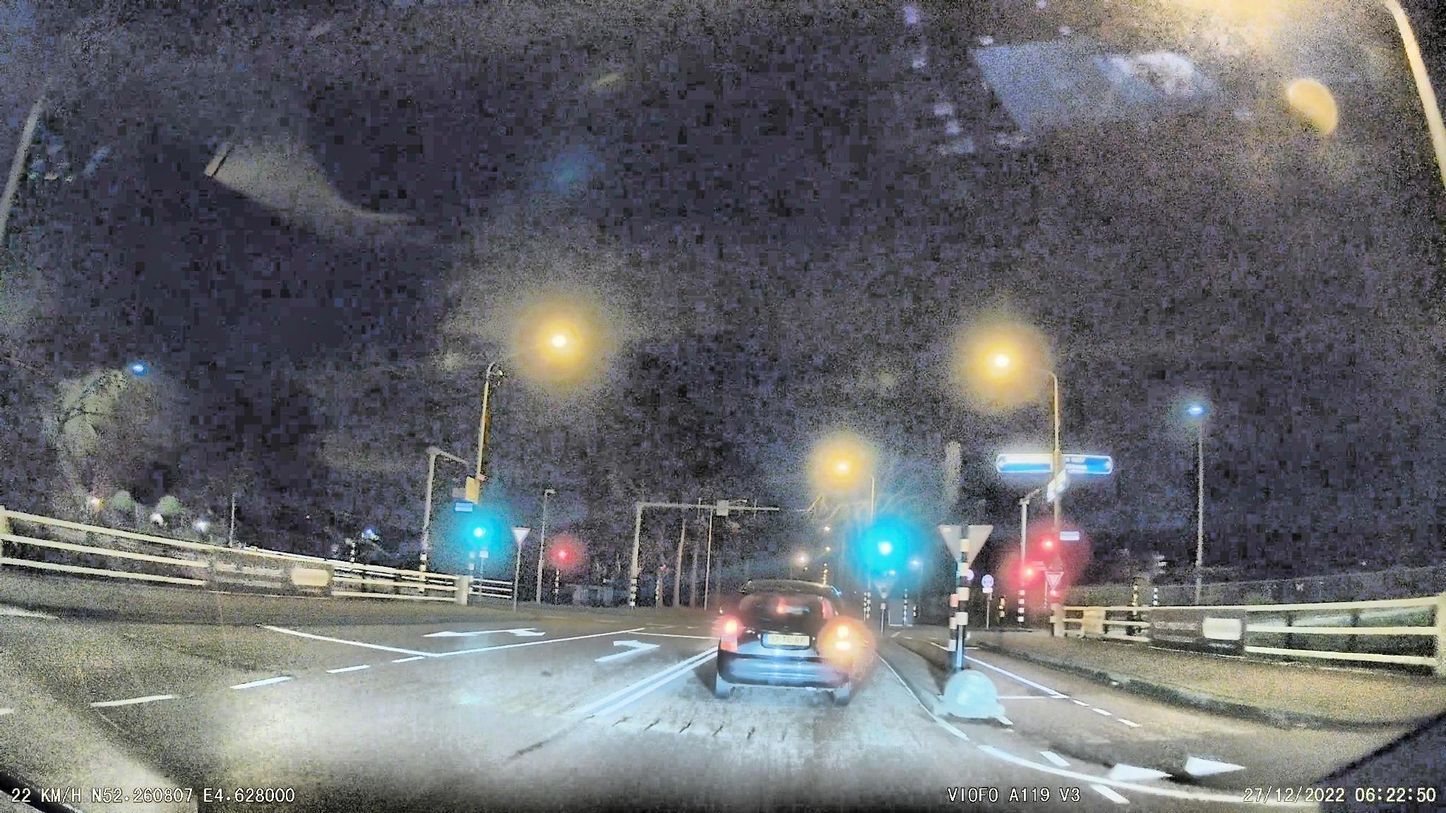Roads: (0, 617, 1316, 813)
